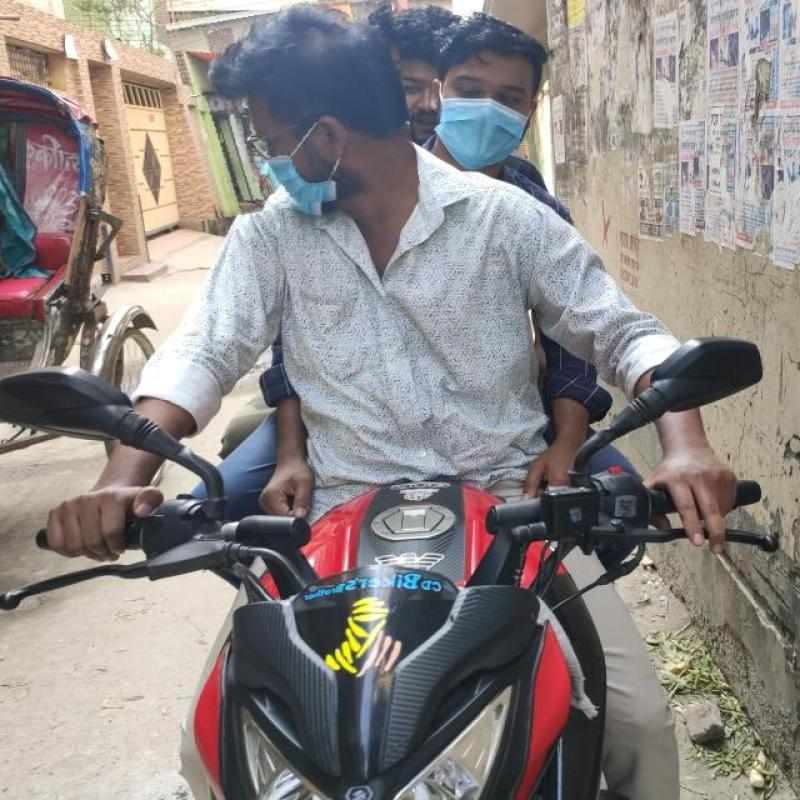nohelmet: (173, 0, 413, 213)
